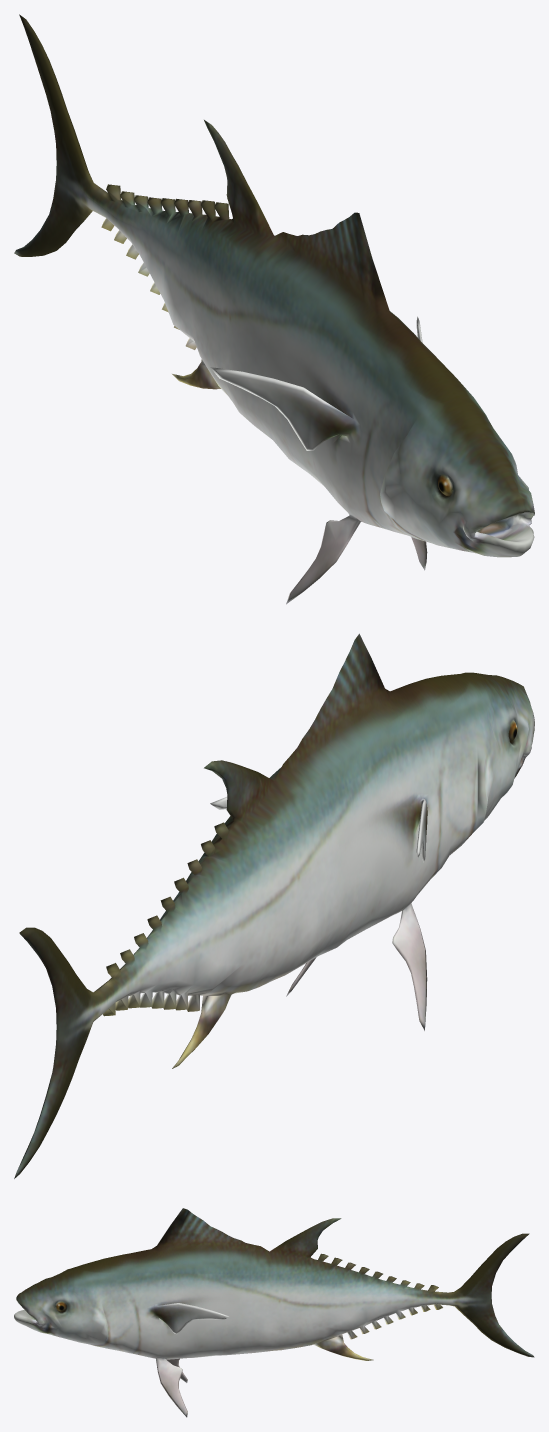
The model's file is tuna.glb.
The picture shows the model from 3 angles, top to bottom: view 1: azimuth 30°, elevation 25°; view 2: azimuth 150°, elevation 25°; view 3: azimuth 270°, elevation 25°; orthographic projection. The views are drawn at different scales.
Parts seen in each view (by area): view 1: TUNA; view 2: TUNA; view 3: TUNA.
Part boxes in pixels (x1,y1,x2,y2): TUNA: (14,14,534,604); TUNA: (14,633,534,1178); TUNA: (14,1208,534,1417).
Bounding box in the file's own units: 0.3091 × 0.5371 × 1.32.
Materials: 1 (1 with a texture image).
